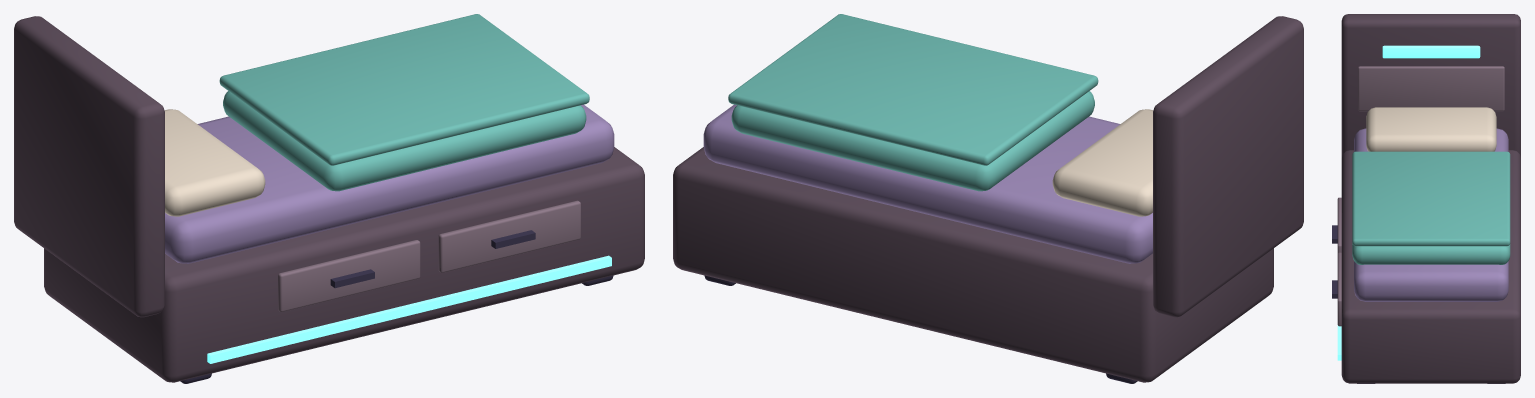
File: bed.glb
The picture shows the model from 3 angles, left to right: view 1: azimuth 30°, elevation 25°; view 2: azimuth 150°, elevation 25°; view 3: azimuth 270°, elevation 25°; orthographic projection. The views are drawn at different scales.
Visible parts, largest first — view 1: bed; view 2: bed; view 3: bed.
Part boxes in pixels (x1=…): bed: x1=14, y1=14, x2=644, y2=383; bed: x1=673, y1=14, x2=1303, y2=383; bed: x1=1332, y1=14, x2=1520, y2=383.
Size of the model in its own units: 2.55 by 1.4 by 1.16.
